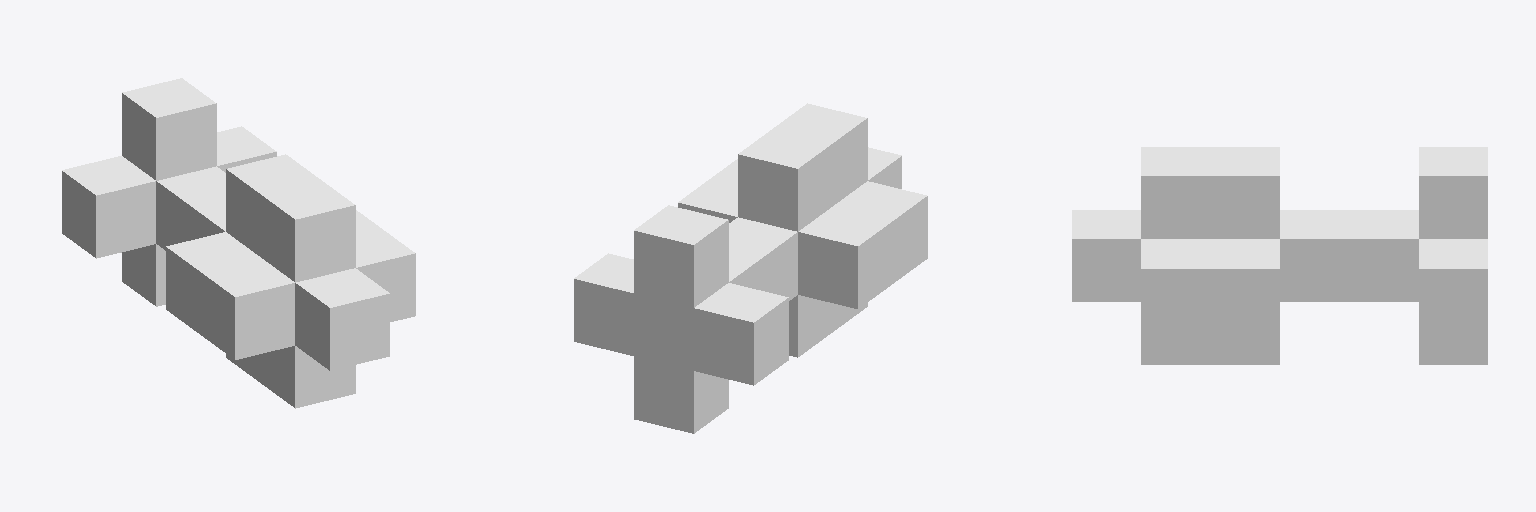
File: Bullet_3.obj
The picture shows the model from 3 angles: view 1: azimuth 30°, elevation 25°; view 2: azimuth 150°, elevation 25°; view 3: azimuth 270°, elevation 25°; orthographic projection.
Visible parts, largest first — view 1: object 1; view 2: object 1; view 3: object 1.
Part boxes in pixels (bbox=[...]): object 1: bbox=[62, 78, 415, 408]; object 1: bbox=[574, 103, 927, 433]; object 1: bbox=[1072, 147, 1487, 364].
Bounding box in the file's own units: 0.3 × 0.3 × 0.6.